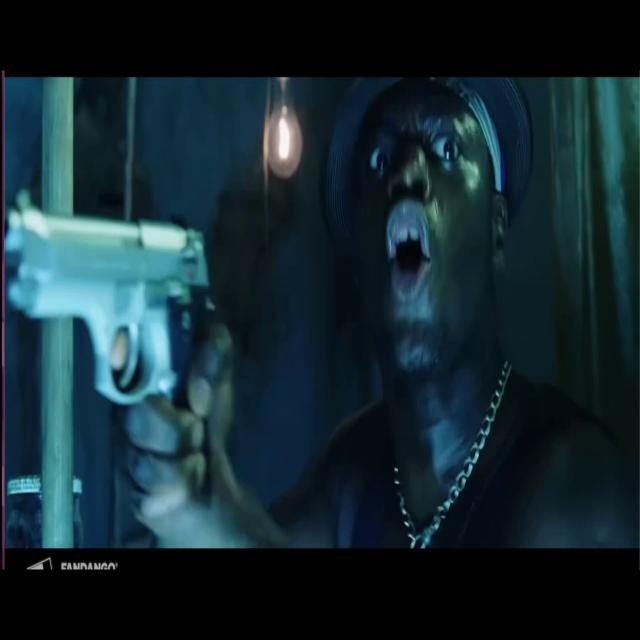weapons: (8, 185, 222, 480)
